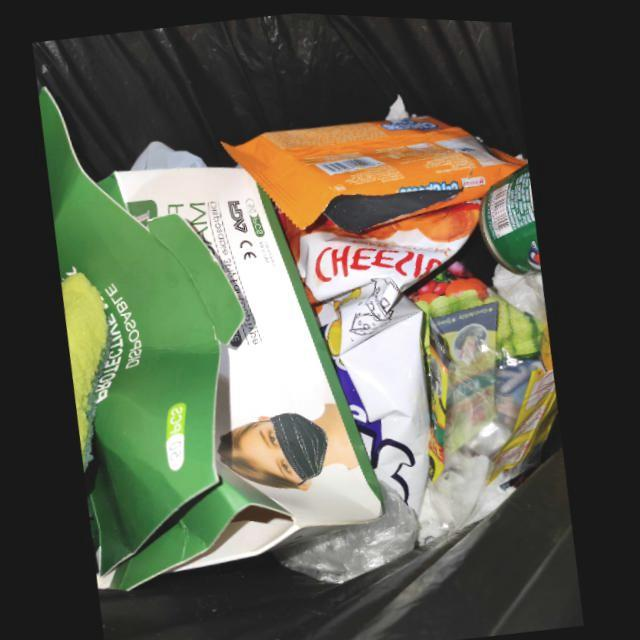aluminum: (482, 160, 544, 273)
cardboard: (39, 89, 387, 591)
food_wrapper: (283, 195, 483, 511), (223, 112, 529, 231)
plastic_sachet: (432, 297, 503, 453), (488, 363, 559, 483), (431, 329, 453, 479)
